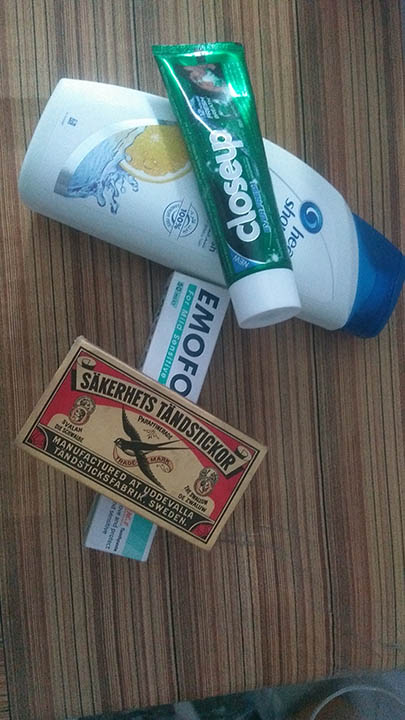Toothpaste-Closeup 3.04$: (149, 41, 306, 325)
Toothpaste-F 1.5$: (145, 270, 234, 394)
match-sticks .90$: (25, 352, 258, 528)
shampoo-Lemon 3.5$: (26, 86, 405, 320)
